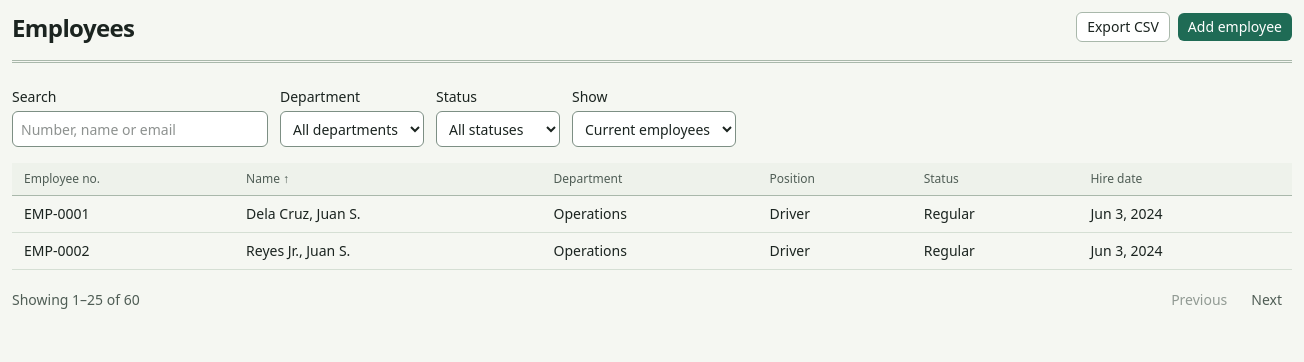
Test: EmployeesPage › exports the filtered masterlist and says where it went
The width and height of the screenshot is (1304, 362).
Expected: the text "Showing 1–25 of 60" is shown, 12,290 -> 140,310
Select "Regular" in the dropdown labelled "Status": (498, 129) 436,111 -> 560,147
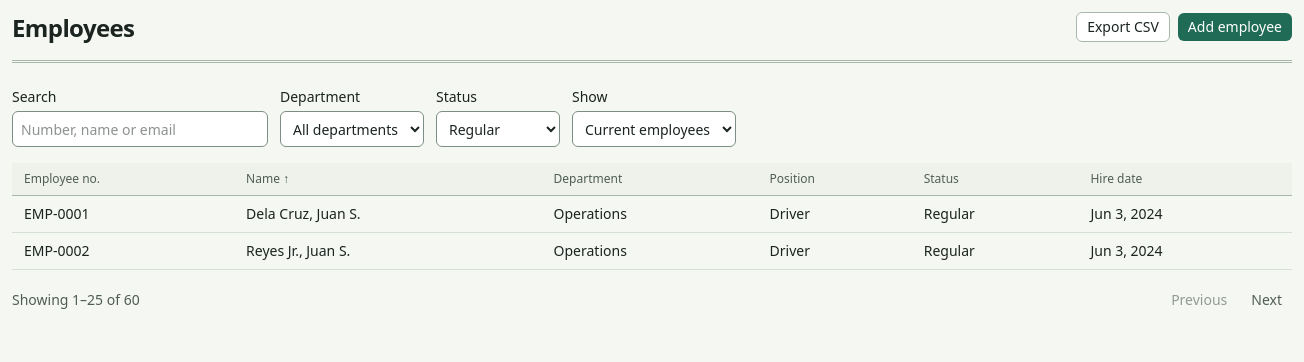
Click the button "Export CSV": (1123, 27) 1076,12 -> 1170,42
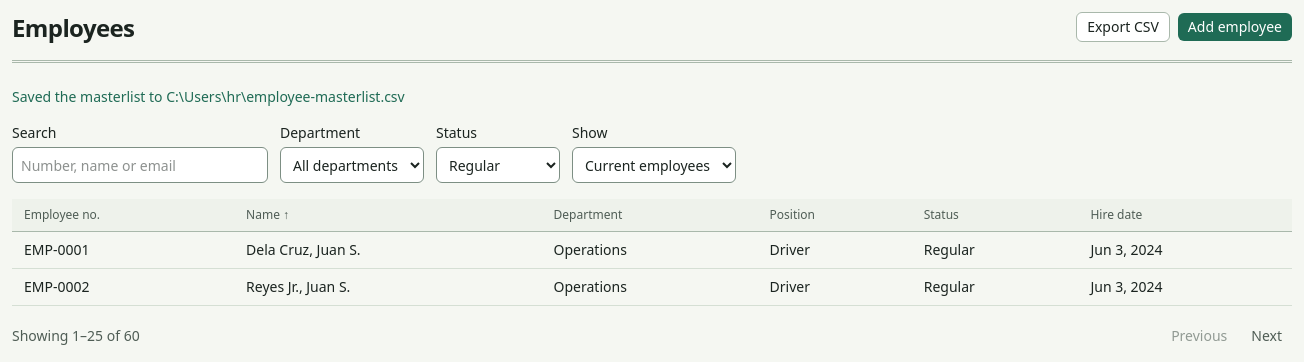
Now the message reads "Saved the masterlist to C:\\Users\\hr\\employee-masterlist.csv", box 12,87 -> 405,106
